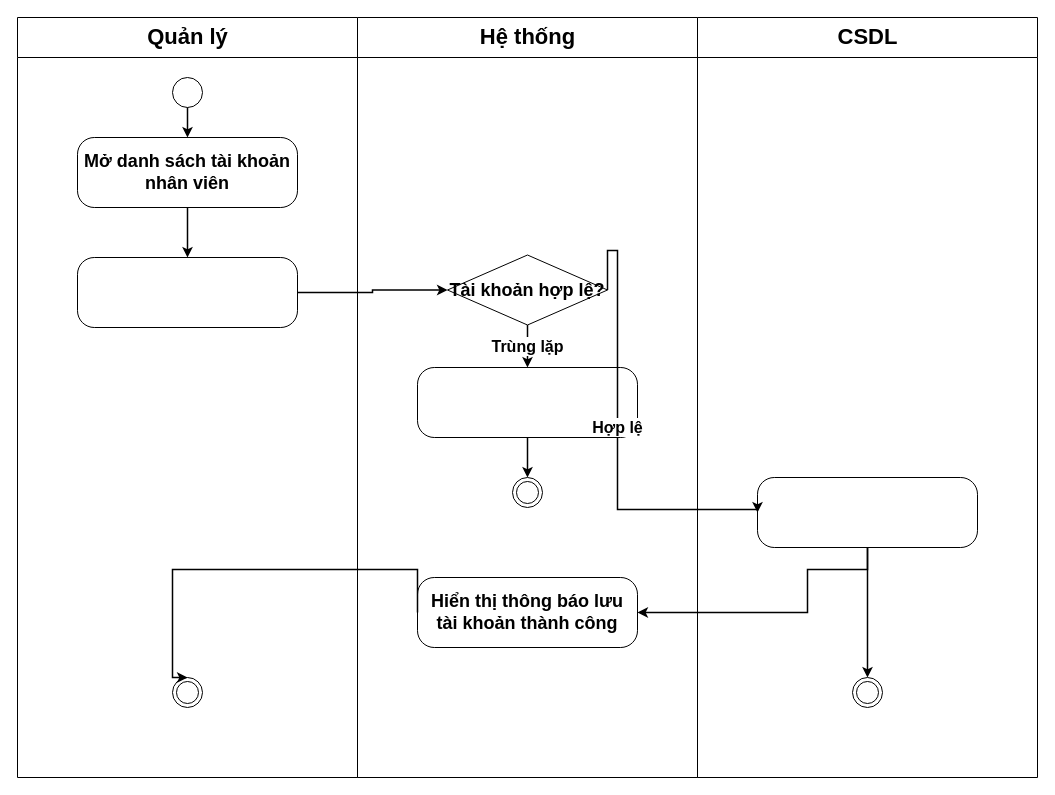
The diagram is 1055 pixels wide and 795 high, and some of its shapes have lost their labels. The centre of each missing label's shape, as x and y in pixels:
"Báo lỗi: Trùng mã nhân viên hoặc tên đăng nhập" goes at pixel 527 402.
"Lưu thông tin tài khoản, mật khẩu mã hóa & vai trò" goes at pixel 867 512.
"Nhập thông tin nhân viên, chọn vai trò & bấm Lưu" goes at pixel 187 292.
